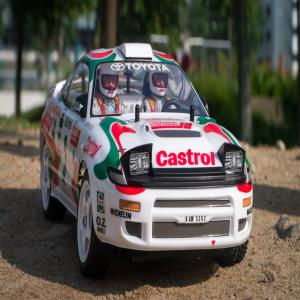Vehicle-registration-plate: (187, 216, 207, 224)
